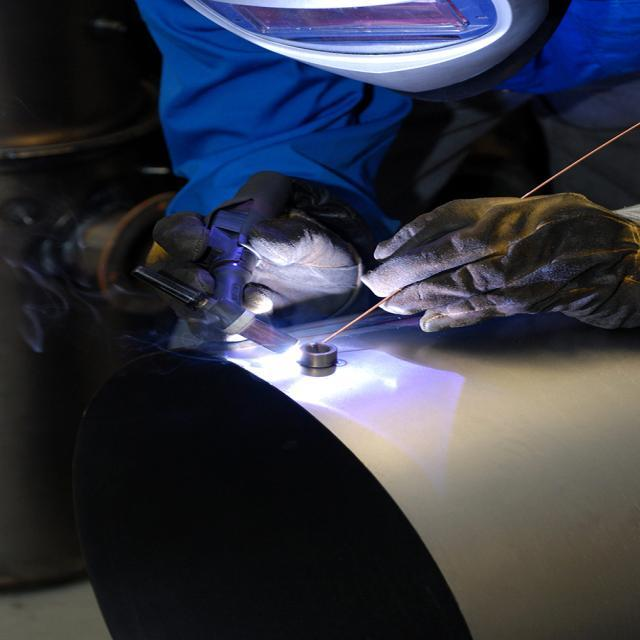with_helmet: (157, 0, 557, 108)
